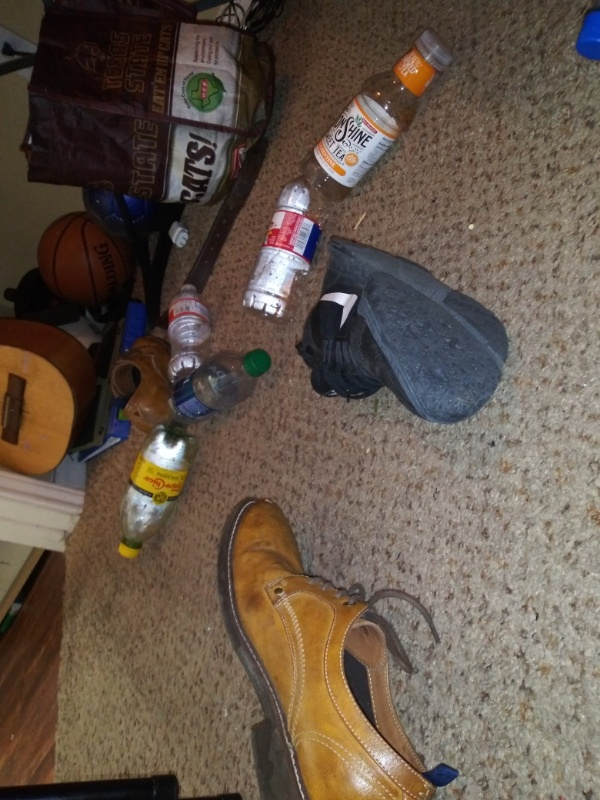bottle: (296, 27, 457, 207), (237, 160, 342, 326), (109, 419, 208, 568), (161, 346, 277, 422), (157, 279, 215, 383)
